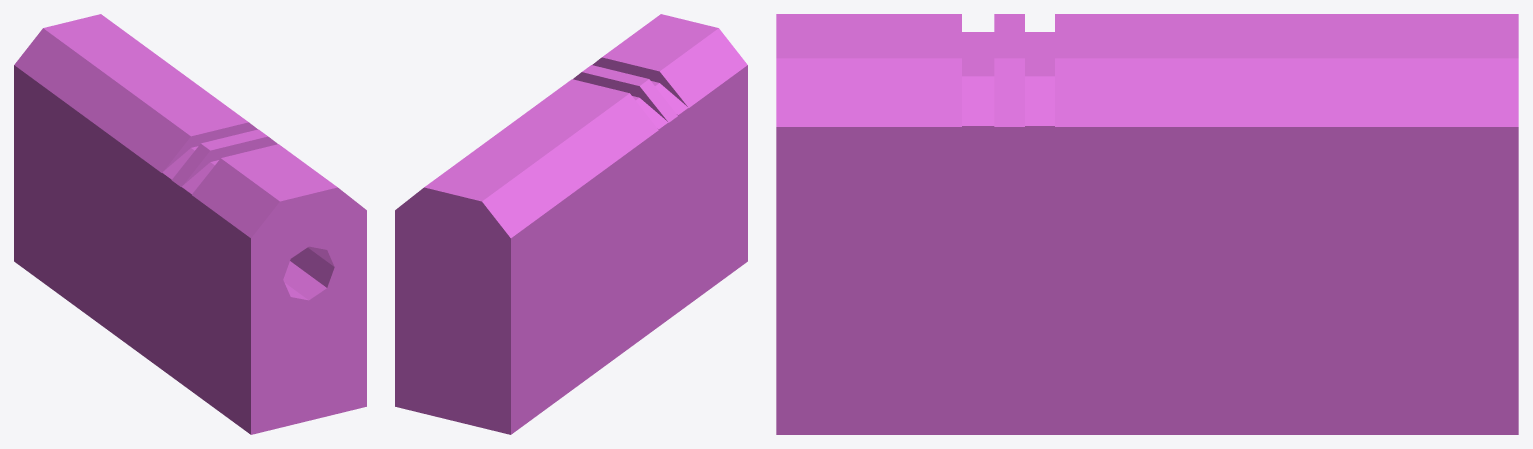
File: Barrel_Tediore.glb
3 views of the same model, side by side, from view 1: azimuth 30°, elevation 25°; view 2: azimuth 150°, elevation 25°; view 3: azimuth 270°, elevation 25° (orthographic). The views are drawn at different scales.
Visible parts, largest first — view 1: Barrel.Tediore; view 2: Barrel.Tediore; view 3: Barrel.Tediore.
Part boxes in pixels (box(x1,y1,x2,y2)): Barrel.Tediore: box(14, 14, 366, 434); Barrel.Tediore: box(395, 14, 747, 434); Barrel.Tediore: box(776, 14, 1518, 434).
Size of the model in its own units: 0.1613 by 0.3014 by 0.5718.
